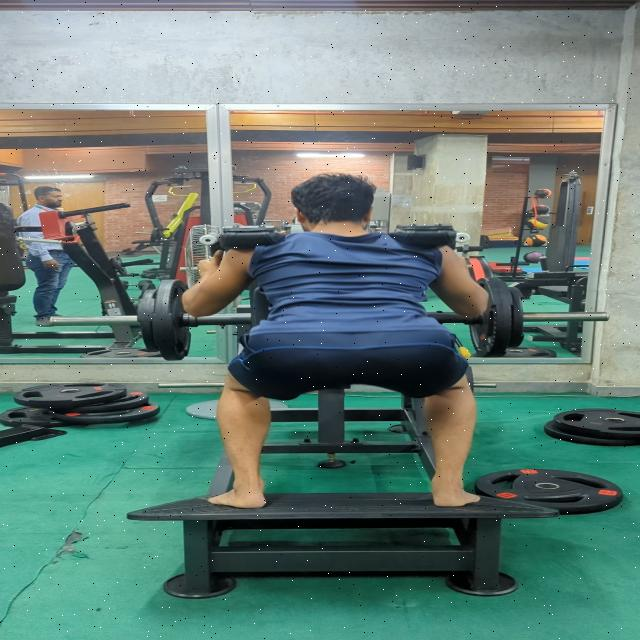Normal_SquatsWithBarbell: (140, 188, 506, 528)
